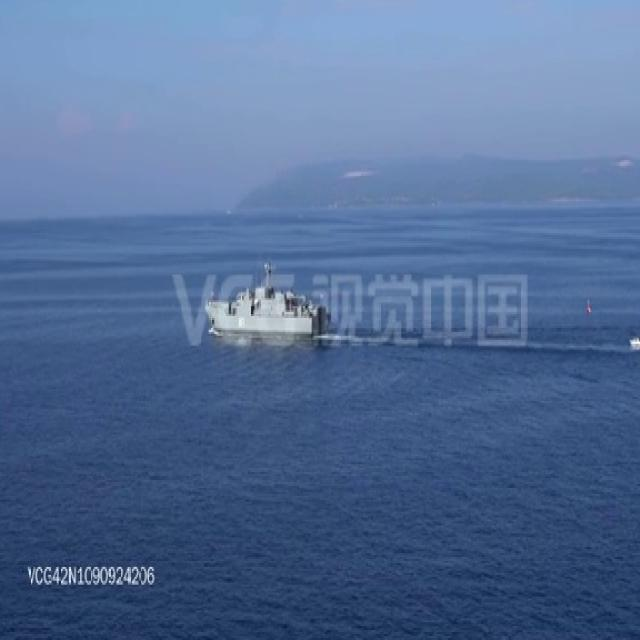houseboat: (629, 328, 640, 348)
navalvessels: (200, 262, 327, 338)
